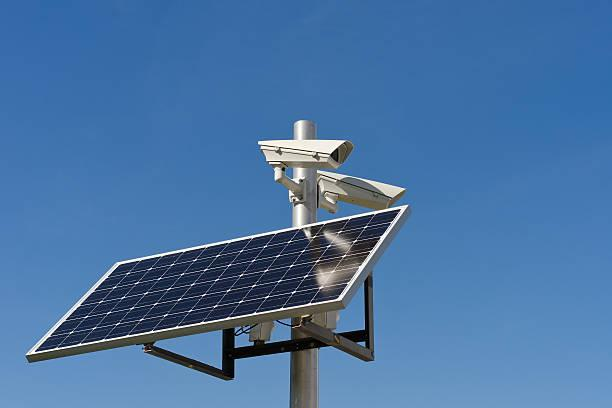camera: (224, 113, 360, 181), (308, 155, 419, 224)
